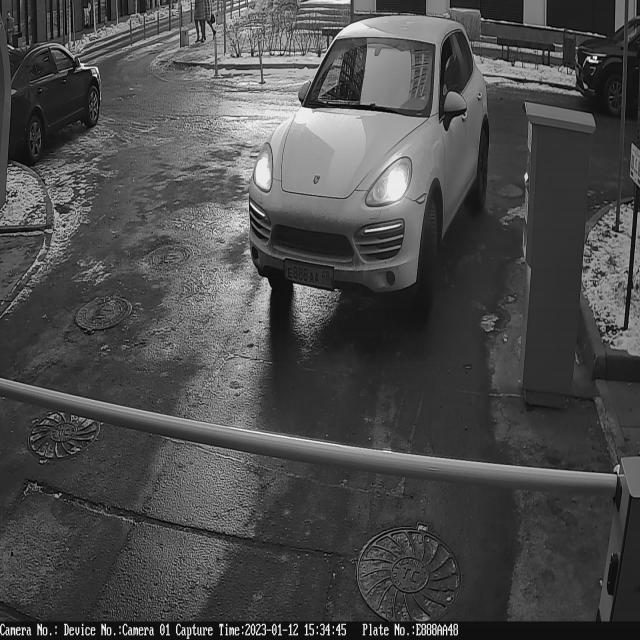car-plate-numbers: (281, 254, 341, 295)
